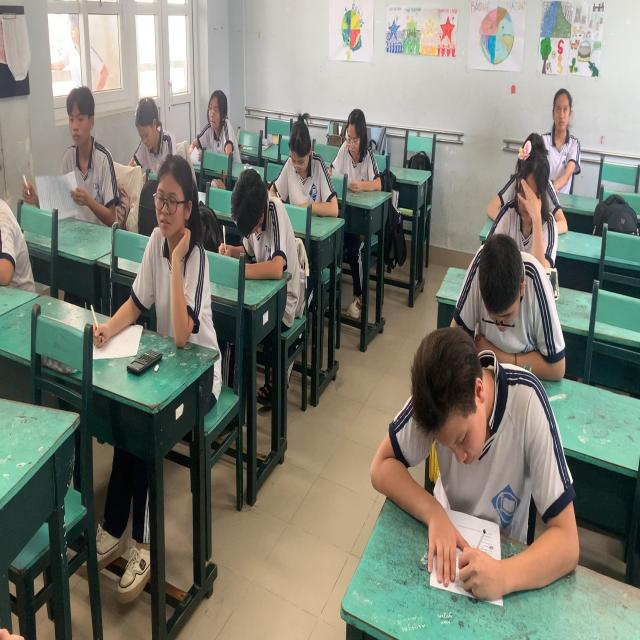not_cheating: (388, 320, 549, 472), (452, 218, 572, 358), (141, 157, 203, 339), (51, 80, 106, 228), (225, 162, 288, 275), (328, 103, 390, 207), (533, 63, 581, 172), (505, 152, 555, 255), (276, 116, 328, 214), (130, 91, 184, 178), (195, 87, 235, 175)
